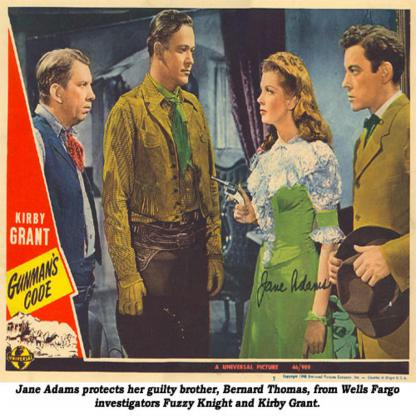face: (61, 59, 95, 121), (168, 28, 195, 86), (346, 49, 370, 109), (259, 70, 286, 121)
